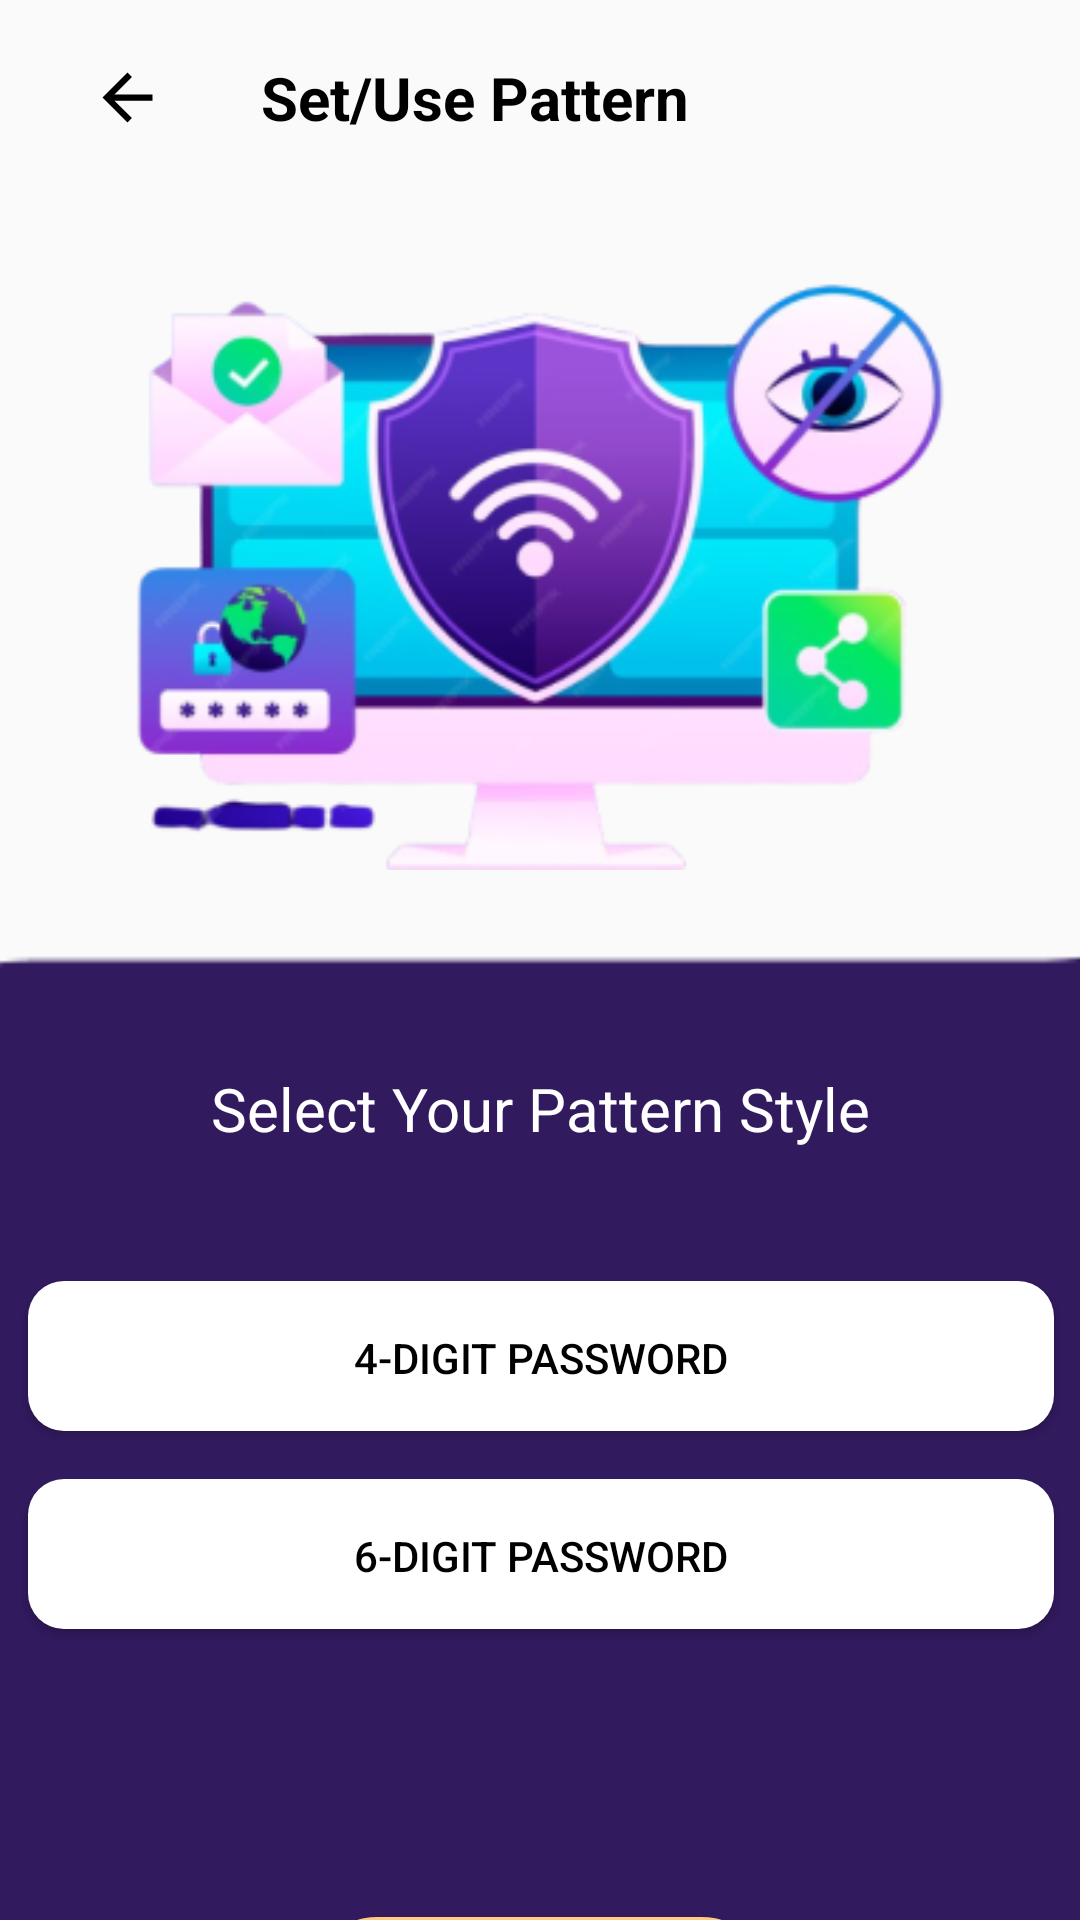

Screen size 1080w x 1920h. Icon name, then its center in pixels as point (x, y):
arrow back: point (127, 97)
